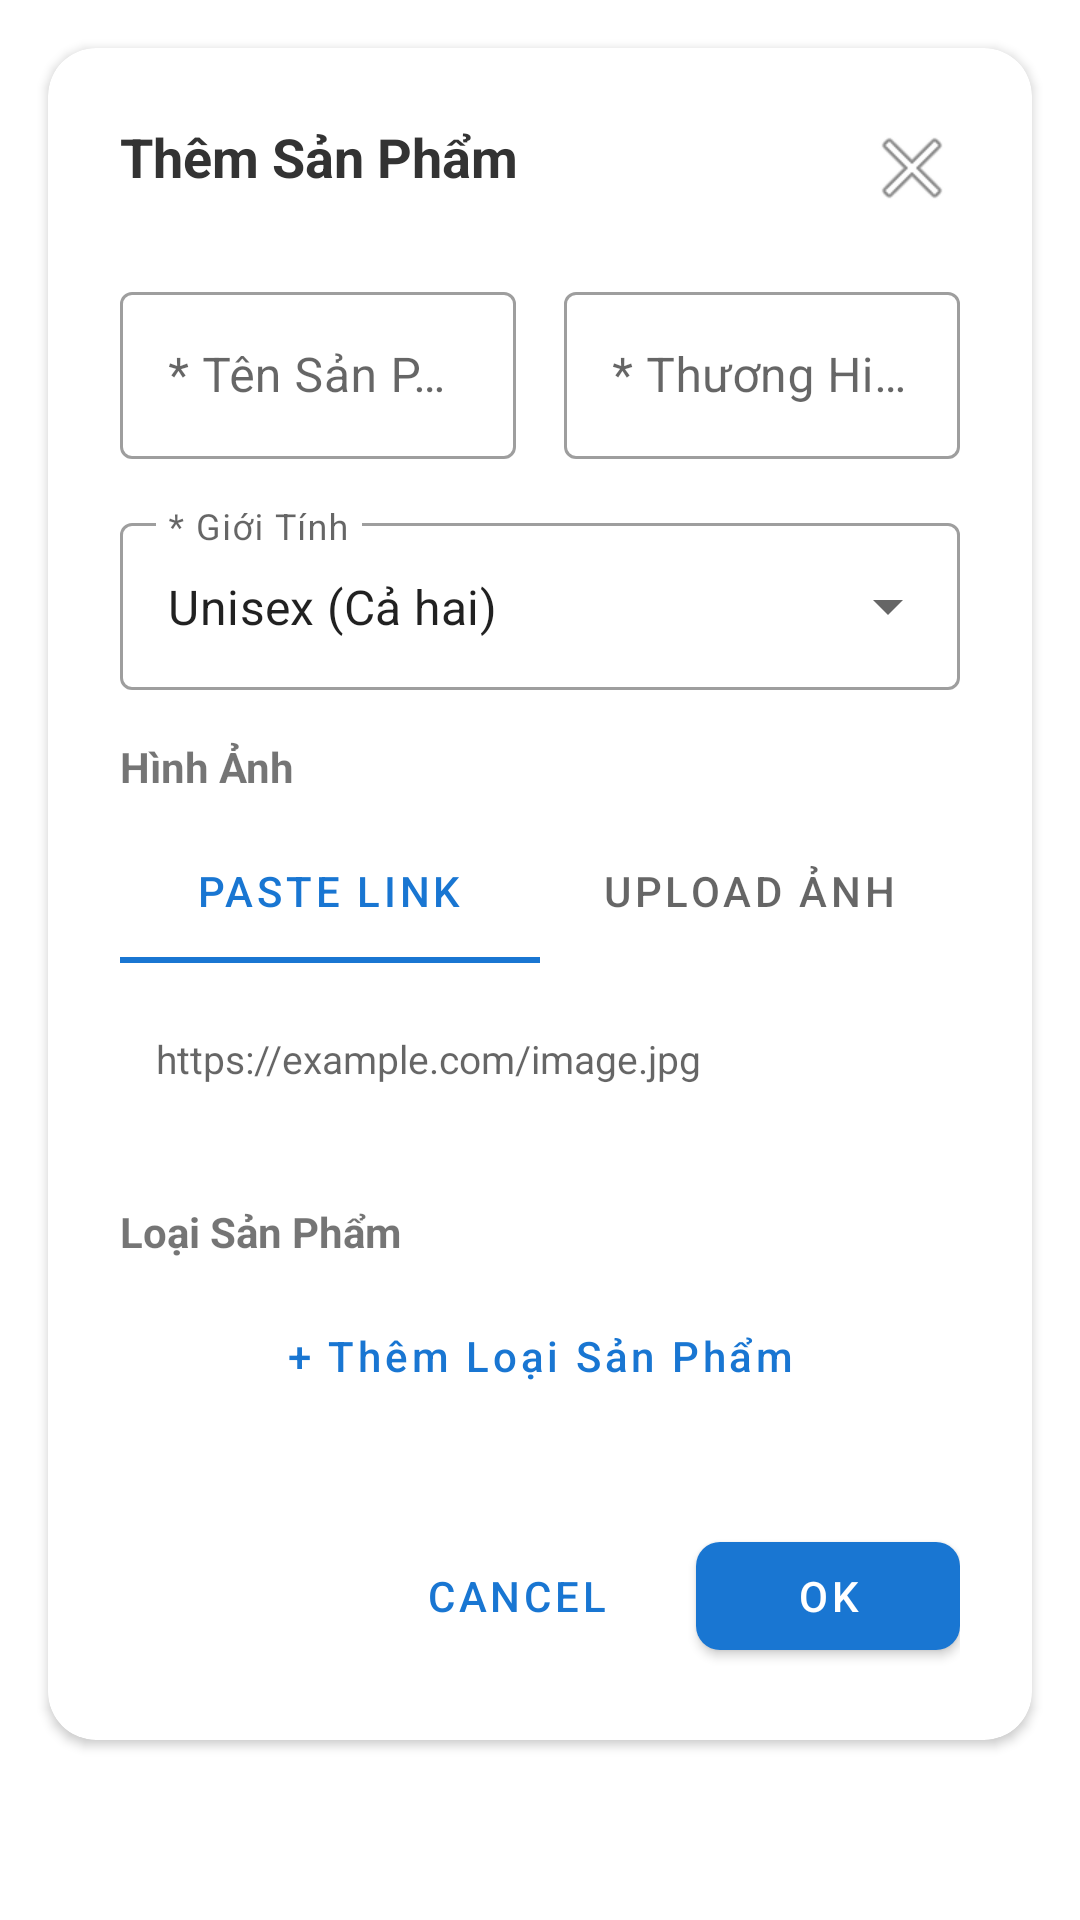

Icon click points for this 1080w x 1920h phone screenshot, format (x,y):
close clear cancel: (912,168)
